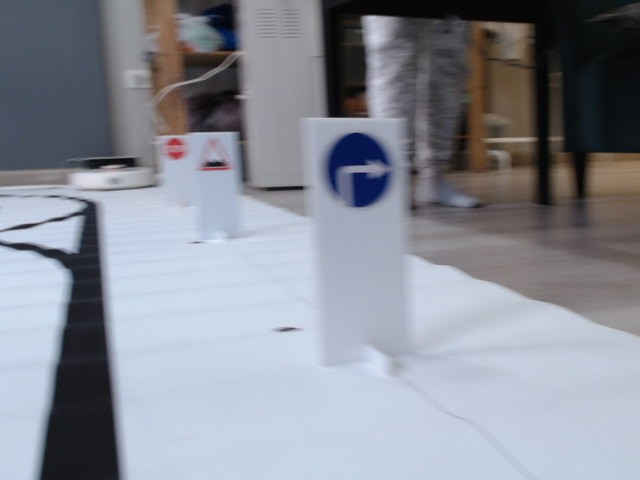Nerov: (194, 137, 234, 170)
Right: (322, 131, 393, 206)
